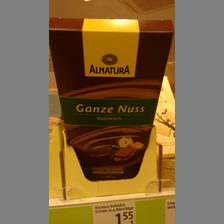chocolate: (49, 17, 173, 181)
